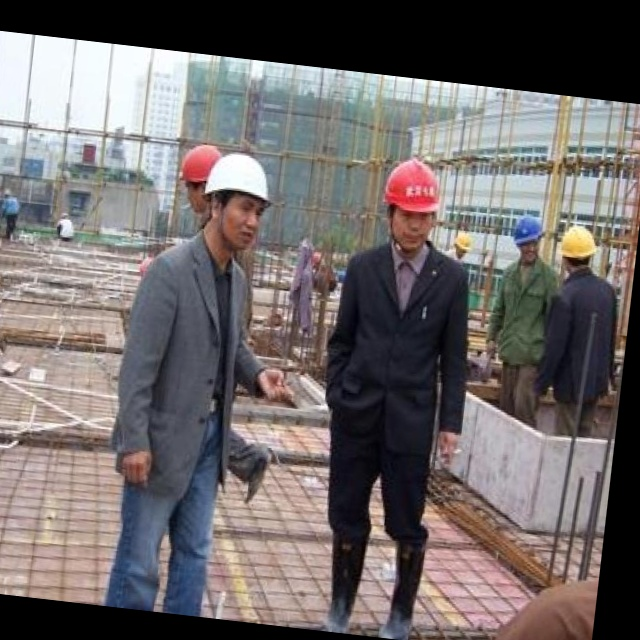Con_Casco: (204, 150, 275, 254), (380, 157, 446, 248)
Sin_Chaleco: (331, 244, 476, 431), (133, 253, 252, 430)
